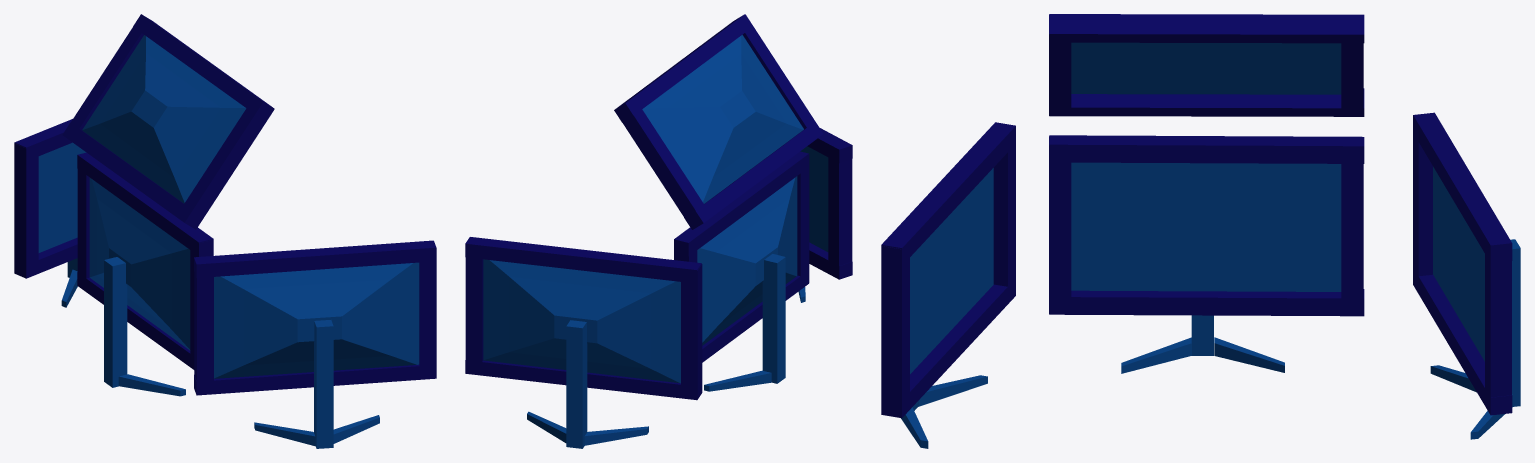
The model's file is monitorframe2.glb.
3 views of the same model, side by side, from view 1: azimuth 30°, elevation 25°; view 2: azimuth 150°, elevation 25°; view 3: azimuth 270°, elevation 25° (orthographic). The views are drawn at different scales.
Parts seen in each view (by area): view 1: Cube.052, Cube.005, Cube.004, Cube.050, Cube.043, Cube.008, Cube.051, Cube.046, Cube.002, Cube.021, Cube.053, Cube.007 (+12 smaller); view 2: Cube.043, Cube.005, Cube.004, Cube.045, Cube.044, Cube.002, Cube.009, Cube.021, Cube.046, Cube.048, Cube.042, Cube.007 (+11 smaller); view 3: Cube.004, Cube.005, Cube.052, Cube.007, Cube.002, Cube.003, Cube.006, Cube.043, Cube.050, Cube.045, Cube.049, Cube.001 (+13 smaller).
Boxes of the visible parts, x1=… form: Cube.052: x1=214, y1=262, x2=419, y2=378; Cube.005: x1=82, y1=35, x2=246, y2=203; Cube.004: x1=89, y1=177, x2=190, y2=350; Cube.050: x1=194, y1=240, x2=436, y2=277; Cube.043: x1=38, y1=142, x2=86, y2=252; Cube.008: x1=176, y1=96, x2=274, y2=229; Cube.051: x1=194, y1=364, x2=436, y2=395; Cube.046: x1=14, y1=143, x2=38, y2=278; Cube.002: x1=77, y1=152, x2=213, y2=255; Cube.021: x1=104, y1=257, x2=127, y2=387; Cube.053: x1=314, y1=320, x2=333, y2=448; Cube.007: x1=133, y1=14, x2=274, y2=109; Cube.043: x1=483, y1=259, x2=680, y2=383; Cube.005: x1=642, y1=35, x2=803, y2=203; Cube.004: x1=697, y1=176, x2=797, y2=345; Cube.045: x1=465, y1=237, x2=701, y2=283; Cube.044: x1=465, y1=360, x2=697, y2=400; Cube.002: x1=674, y1=151, x2=808, y2=256; Cube.009: x1=622, y1=98, x2=710, y2=217; Cube.021: x1=762, y1=254, x2=785, y2=383; Cube.046: x1=681, y1=264, x2=702, y2=399; Cube.048: x1=828, y1=144, x2=852, y2=277; Cube.042: x1=566, y1=320, x2=587, y2=448; Cube.007: x1=614, y1=14, x2=745, y2=122; Cube.004: x1=1071, y1=162, x2=1341, y2=291; Cube.005: x1=1071, y1=42, x2=1341, y2=94; Cube.052: x1=910, y1=168, x2=993, y2=373; Cube.007: x1=1049, y1=14, x2=1364, y2=43; Cube.002: x1=1049, y1=135, x2=1364, y2=163; Cube.003: x1=1049, y1=289, x2=1364, y2=316; Cube.006: x1=1049, y1=88, x2=1364, y2=116; Cube.043: x1=1433, y1=166, x2=1484, y2=361; Cube.050: x1=881, y1=122, x2=1015, y2=265; Cube.045: x1=1413, y1=112, x2=1512, y2=262; Cube.049: x1=881, y1=241, x2=909, y2=417; Cube.001: x1=1049, y1=136, x2=1071, y2=314.
Bounding box in the file's own units: 28.84 × 38.89 × 57.36.
